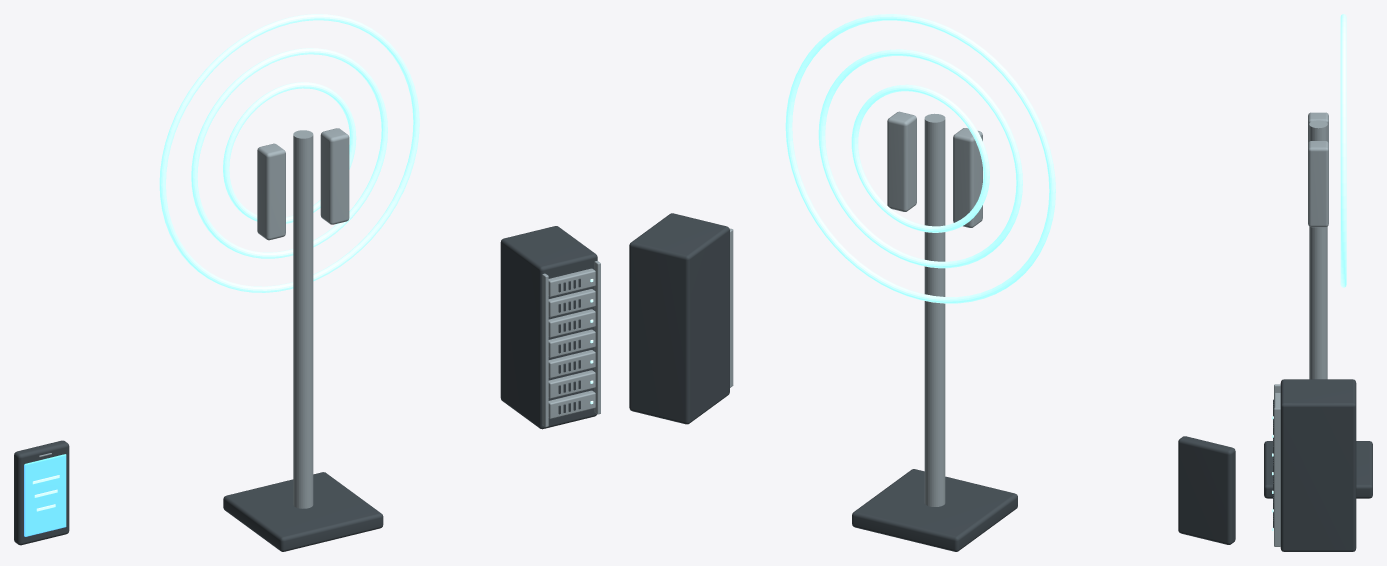
File: wavelength.glb
3 views of the same model, side by side, from view 1: azimuth 30°, elevation 25°; view 2: azimuth 150°, elevation 25°; view 3: azimuth 270°, elevation 25° (orthographic). The views are drawn at different scales.
Visible parts, largest first — view 1: Rack chassis, Tower mast, Tower base, Radio wave.002, Radio wave.001, Display, Radio antenna.001, Radio antenna, Device enclosure, Radio wave, Rack rail, Rack rail.001 (+7 smaller); view 2: Rack chassis, Tower mast, Tower base, Radio wave.002, Device enclosure, Radio wave.001, Radio wave, Radio antenna.001, Radio antenna; view 3: Rack chassis, Tower mast, Radio wave.002, Radio antenna.001, Tower base, Rack rail.001, Radio antenna.
Part boxes in pixels (x1,y1,x2,y2): Rack chassis: (500,226,597,429); Tower mast: (293,130,313,508); Tower base: (223,472,383,551); Radio wave.002: (159,14,419,292); Radio wave.001: (191,48,387,258); Display: (24,454,66,536); Radio antenna.001: (320,128,349,224); Radio antenna: (257,143,285,240); Device enclosure: (14,440,69,545); Radio wave: (223,82,356,223); Rack rail: (542,273,548,426); Rack rail.001: (594,261,600,414); Rack chassis: (629,213,729,424); Tower mast: (924,113,945,506); Tower base: (852,469,1017,551); Radio wave.002: (785,14,1055,303); Device enclosure: (1178,436,1235,544); Radio wave.001: (818,49,1022,268); Radio wave: (851,84,989,232); Radio antenna.001: (887,111,916,211); Radio antenna: (953,128,982,227); Rack chassis: (1280,379,1356,551); Tower mast: (1309,120,1327,379); Radio wave.002: (1340,14,1346,287); Radio antenna.001: (1308,141,1328,227); Tower base: (1264,441,1372,498); Rack rail.001: (1274,407,1280,546); Radio antenna: (1308,112,1328,143).
Bounding box in the file's own units: 7.09 × 5.92 × 1.3.
